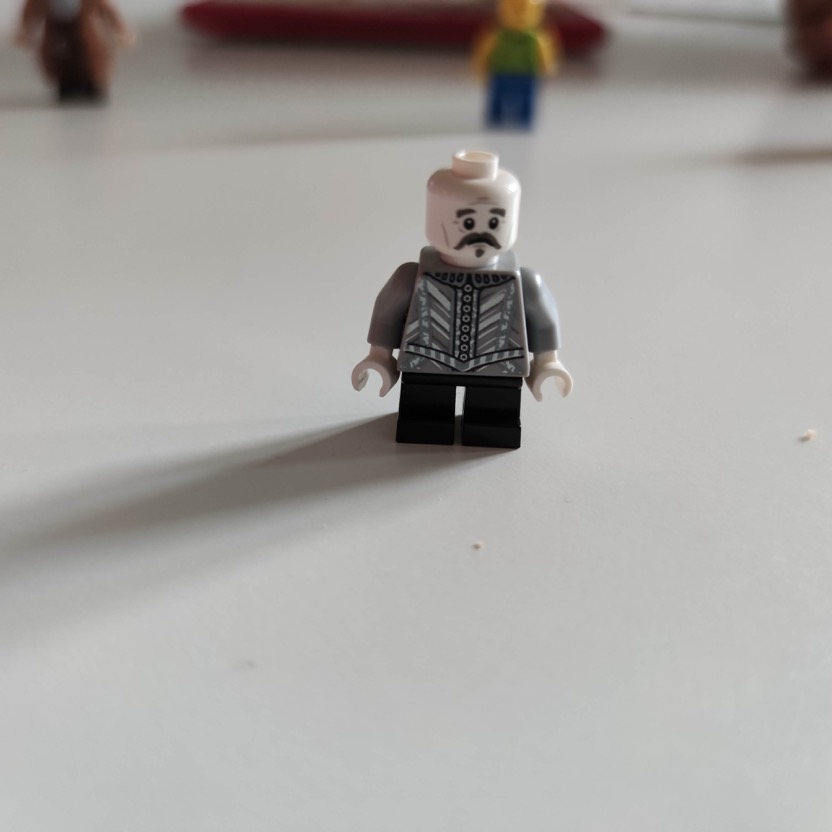lego: (353, 149, 575, 452)
